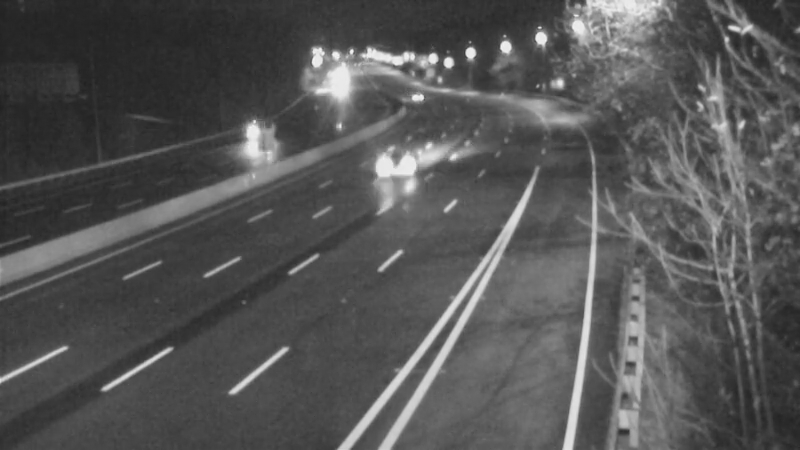vehicle: (363, 126, 443, 206), (388, 73, 438, 123), (231, 101, 281, 151), (313, 63, 363, 113)
